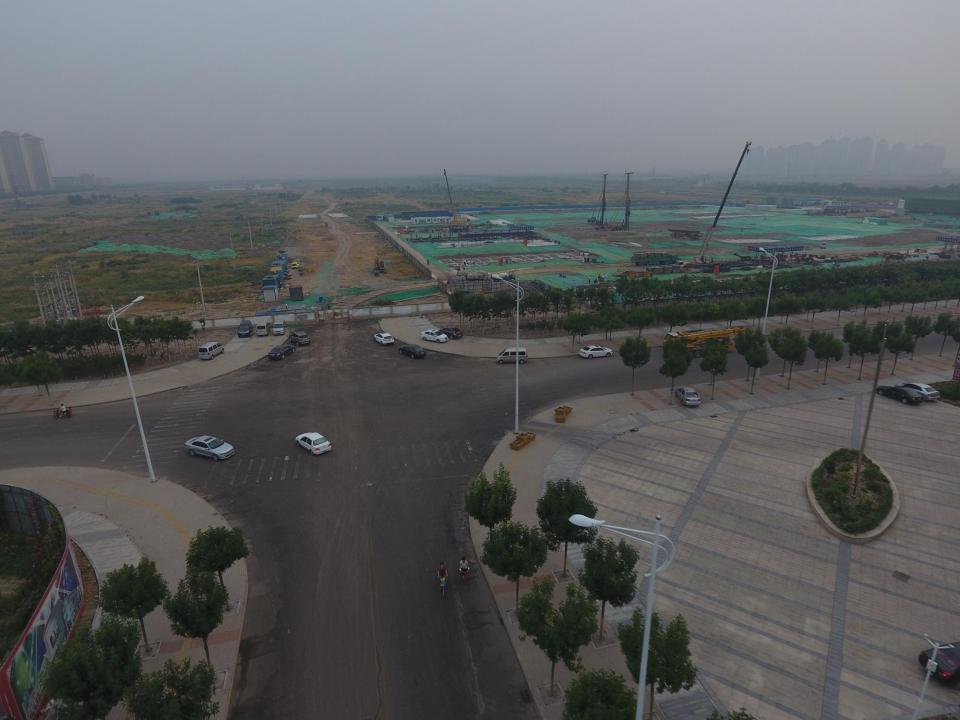car: (918, 635, 960, 687), (184, 435, 234, 461), (876, 386, 924, 404), (893, 382, 940, 400), (296, 432, 331, 455), (579, 345, 613, 359), (675, 388, 701, 406), (268, 344, 296, 360), (398, 344, 427, 358), (420, 329, 448, 343), (289, 331, 310, 346), (438, 327, 463, 339), (237, 320, 253, 338), (374, 332, 394, 346), (291, 262, 299, 269), (426, 261, 430, 265)
truck: (662, 327, 745, 358)
van: (497, 348, 527, 364), (198, 342, 224, 360), (256, 321, 270, 336), (273, 319, 285, 335)
